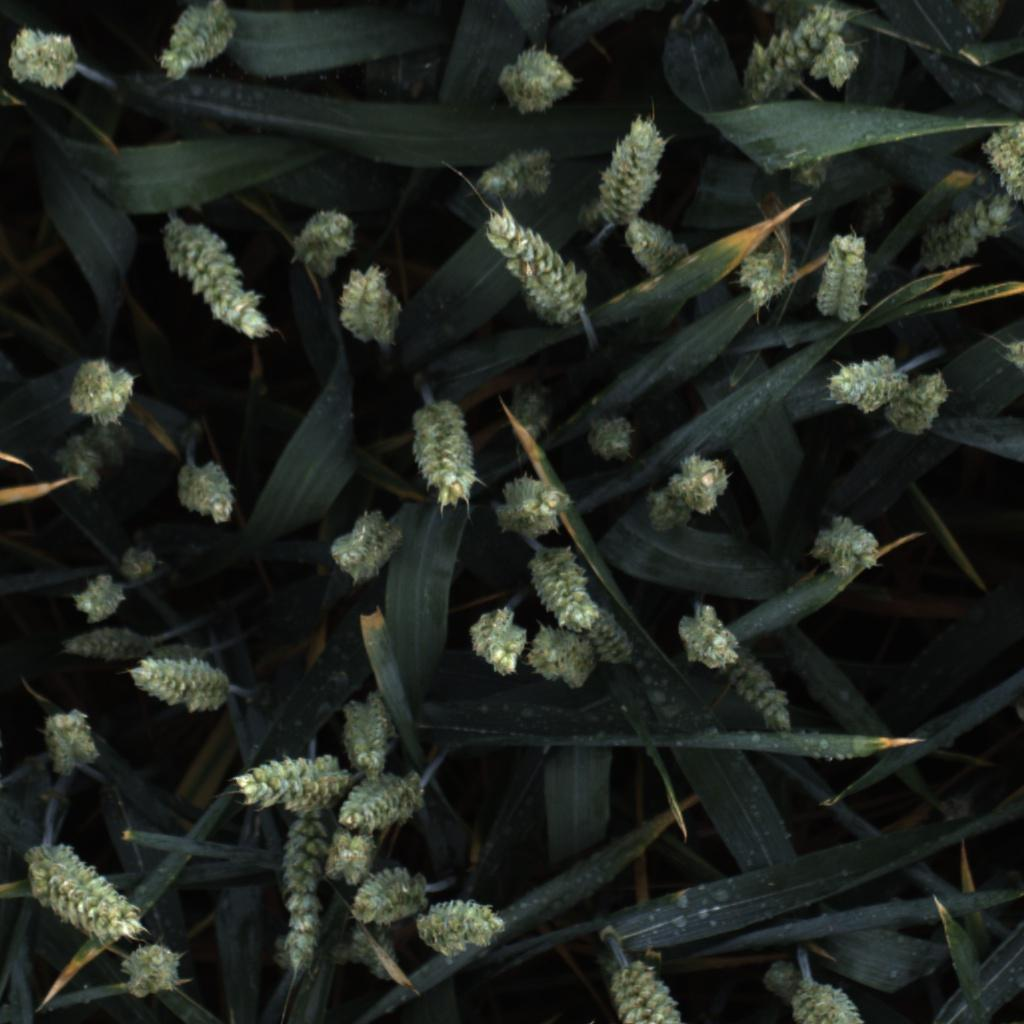0-0: (158, 210, 277, 341), (477, 204, 595, 328), (26, 840, 153, 947), (739, 0, 846, 106), (594, 113, 679, 222), (614, 943, 717, 1024), (280, 814, 331, 976), (405, 399, 479, 509), (515, 546, 609, 631), (918, 190, 1014, 272), (326, 896, 413, 986), (640, 453, 734, 534), (224, 748, 340, 812), (158, 0, 241, 88), (327, 507, 410, 592), (341, 761, 432, 834), (492, 39, 578, 115), (419, 895, 509, 965), (727, 234, 797, 324), (132, 658, 234, 719), (812, 225, 874, 325), (337, 259, 405, 348), (811, 508, 884, 590), (335, 687, 402, 776), (286, 199, 357, 281), (41, 430, 116, 506), (4, 22, 84, 93), (66, 353, 139, 430), (356, 857, 435, 928), (826, 347, 906, 417), (489, 471, 575, 536), (724, 647, 791, 729), (528, 623, 602, 697), (37, 706, 107, 782), (500, 375, 563, 458), (321, 820, 393, 892), (885, 363, 959, 433), (673, 601, 740, 678), (462, 605, 529, 681), (172, 458, 243, 529), (474, 143, 558, 203), (615, 216, 692, 281), (974, 117, 1024, 214), (575, 605, 644, 673), (758, 948, 822, 1021), (103, 532, 175, 592), (51, 625, 155, 665), (120, 940, 185, 1002), (790, 976, 870, 1024), (806, 29, 864, 93), (850, 167, 898, 240), (584, 411, 640, 467), (69, 570, 127, 623), (784, 130, 827, 194)
